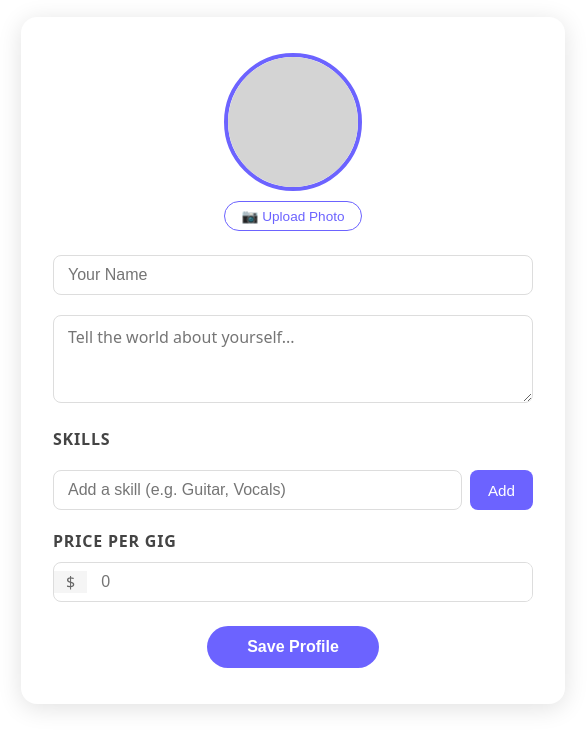
it: adds a skill tag when Add button is clicked
Type "Guitar" into the field named "Skill input" at (258, 490), box [53,470,462,510]
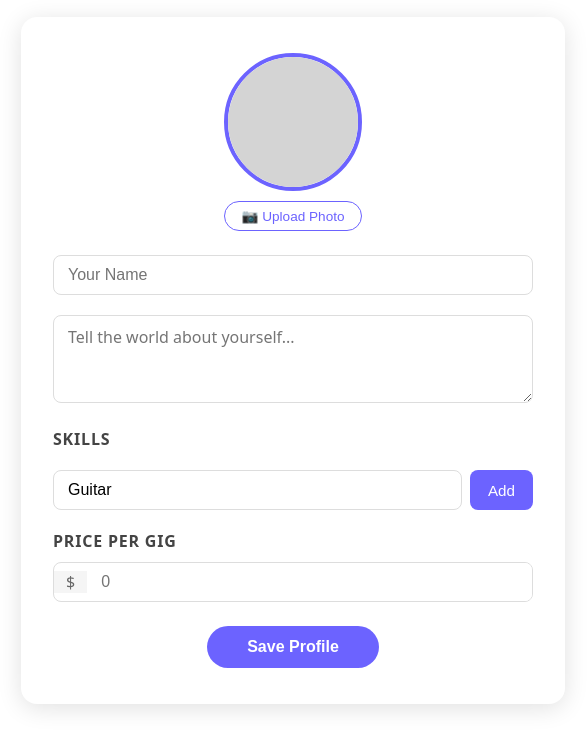
Click the button "Add" at (502, 490), box [470,470,533,510]
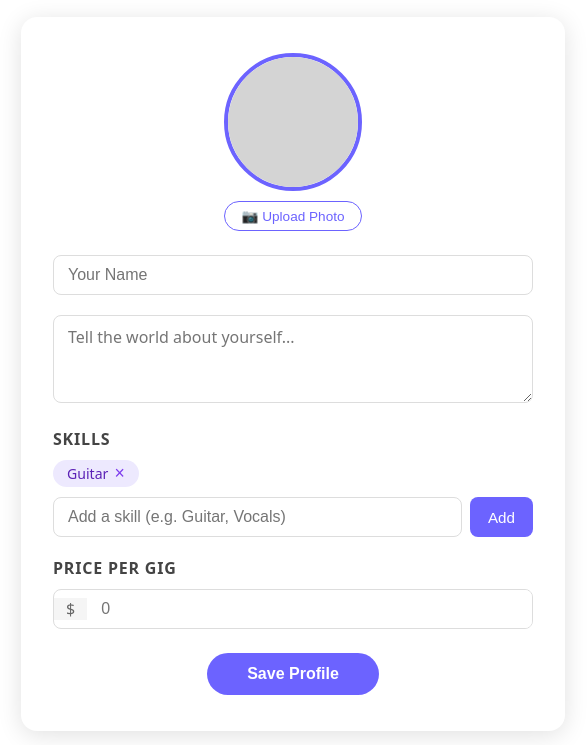
Expected: the text "Guitar" is shown, [67,464,108,483]
